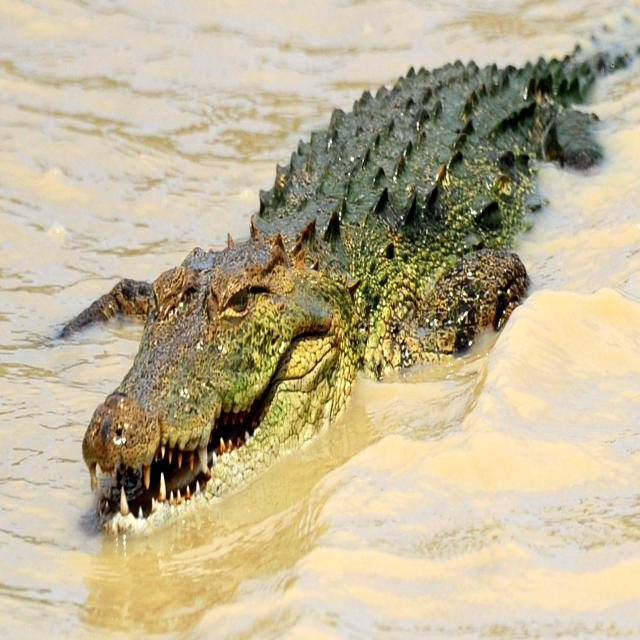crocodile: (37, 0, 640, 589)
